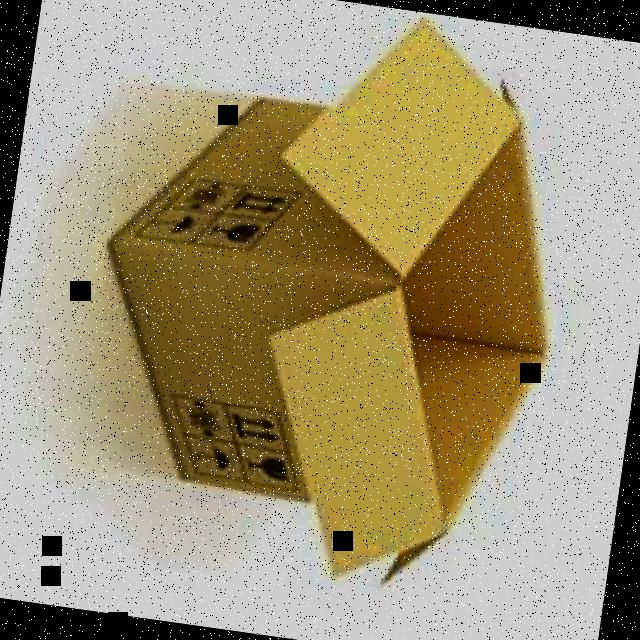cardboard_box: (66, 0, 590, 597)
